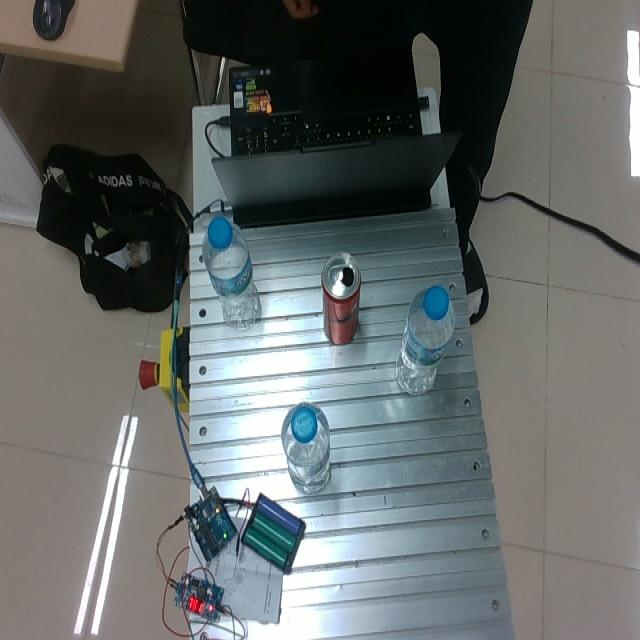coca: (320, 252, 361, 345)
lavie: (393, 286, 455, 398), (202, 215, 261, 329), (281, 403, 330, 493)
